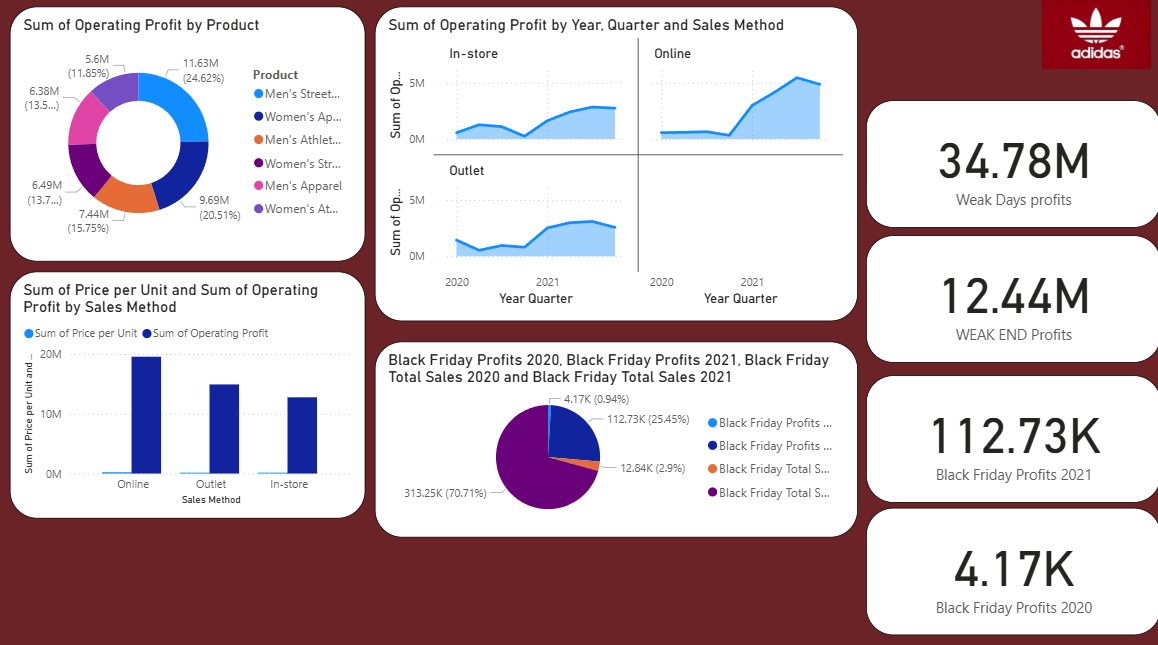

The page's visual inventory and layout, read from the dashboard file:
{"tool":"powerbi","page":{"name":"•\tPrice & Profitability Analysis","canvas":[1280,720],"ordinal":4},"visuals":[{"type":"donutChart","fields":{"Category":["Data Sales Adidas.Product"],"Y":["Sum(Data Sales Adidas.Operating Profit)"]},"box":[15.7,14.3,390,280],"z":0},{"type":"clusteredColumnChart","fields":{"Category":["Data Sales Adidas.Sales Method"],"Y":["Sum(Data Sales Adidas.Price per Unit)","Sum(Data Sales Adidas.Operating Profit)"]},"box":[15.7,304.3,390,271.4],"z":1000},{"type":"areaChart","fields":{"Category":["Data Sales Adidas.Invoice Date.Variation.Date Hierarchy.Year","Data Sales Adidas.Invoice Date.Variation.Date Hierarchy.Quarter"],"Y":["Sum(Data Sales Adidas.Operating Profit)"],"Rows":["Data Sales Adidas.Sales Method"]},"box":[415.7,14.3,530,345.7],"z":2000},{"type":"card","fields":{"Values":["Data Sales Adidas.Weak Days profits"]},"box":[955.7,117.1,324.3,140],"z":3000},{"type":"card","fields":{"Values":["Data Sales Adidas.WEAK END Profits"]},"box":[955.7,264.3,324.3,140],"z":4000},{"type":"card","fields":{"Values":["Data Sales Adidas.Black Friday Profits 2021"]},"box":[955.7,418.6,324.3,140],"z":5000},{"type":"card","fields":{"Values":["Data Sales Adidas.Black Friday Profits 2022"]},"box":[955.7,564.3,324.3,140],"z":6000},{"type":"pieChart","fields":{"Y":["Data Sales Adidas.Black Friday Profits 2020","Data Sales Adidas.Black Friday Profits 2021","Data Sales Adidas.Black Friday Total Sales 2020","Data Sales Adidas.Black Friday Total Sales 2021"]},"box":[416,381,530,215],"z":7000},{"type":"image","box":[1135.7,0,144.3,87.1],"z":8000}]}

Visuals, with their boxes in screenshot pixels (x1, y1, x2, y2), scaled from the page's 1280x720 canvas onto the 1158x645 screenshot:
donutChart - Data Sales Adidas.Product x Sum(Data Sales Adidas.Operating Profit): [14, 13, 367, 264]
clusteredColumnChart - Data Sales Adidas.Sales Method x Sum(Data Sales Adidas.Price per Unit): [14, 273, 367, 516]
areaChart - Data Sales Adidas.Invoice Date.Variation.Date Hierarchy.Year x Data Sales Adidas.Invoice Date.Variation.Date Hierarchy.Quarter: [376, 13, 856, 322]
card - Data Sales Adidas.Weak Days profits: [865, 105, 1157, 230]
card - Data Sales Adidas.WEAK END Profits: [865, 237, 1157, 362]
card - Data Sales Adidas.Black Friday Profits 2021: [865, 375, 1157, 500]
card - Data Sales Adidas.Black Friday Profits 2022: [865, 506, 1157, 631]
pieChart - Data Sales Adidas.Black Friday Profits 2020 x Data Sales Adidas.Black Friday Profits 2021: [376, 341, 856, 534]
image: [1027, 0, 1157, 78]
